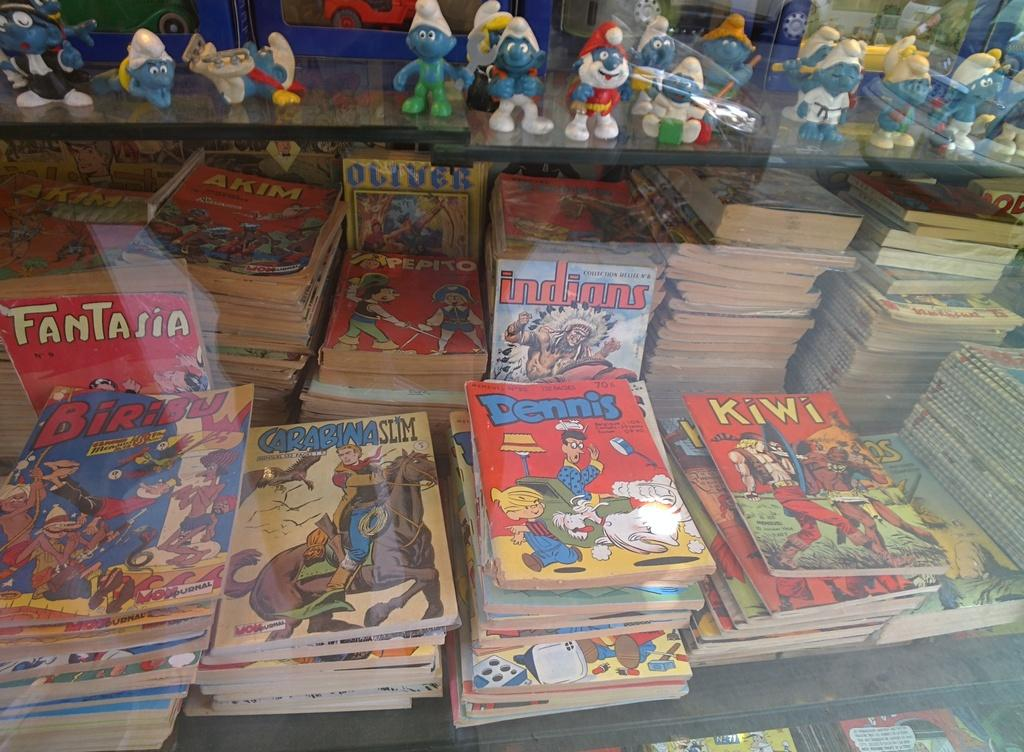Book: (0, 134, 1023, 751), (680, 386, 949, 575)
